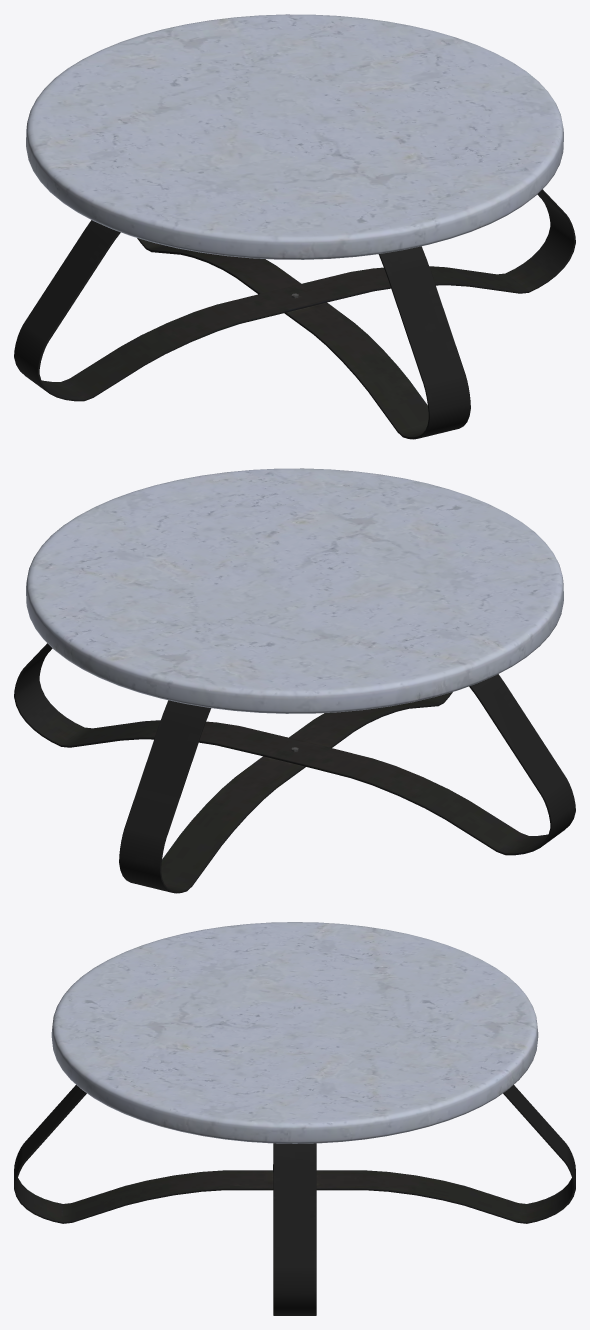
File: Round Coffee Table1.gltf
The picture shows the model from 3 angles, top to bottom: view 1: azimuth 30°, elevation 25°; view 2: azimuth 150°, elevation 25°; view 3: azimuth 270°, elevation 25°; orthographic projection. The views are drawn at different scales.
Parts seen in each view (by area): view 1: coffee_table_round_01; view 2: coffee_table_round_01; view 3: coffee_table_round_01.
Part boxes in pixels (x1,y1,x2,y2): coffee_table_round_01: (14, 14, 575, 439); coffee_table_round_01: (14, 468, 575, 893); coffee_table_round_01: (14, 922, 575, 1315).
Bounding box in the file's own units: 1.3 × 0.491 × 1.3.
1 material, 1 textured.
